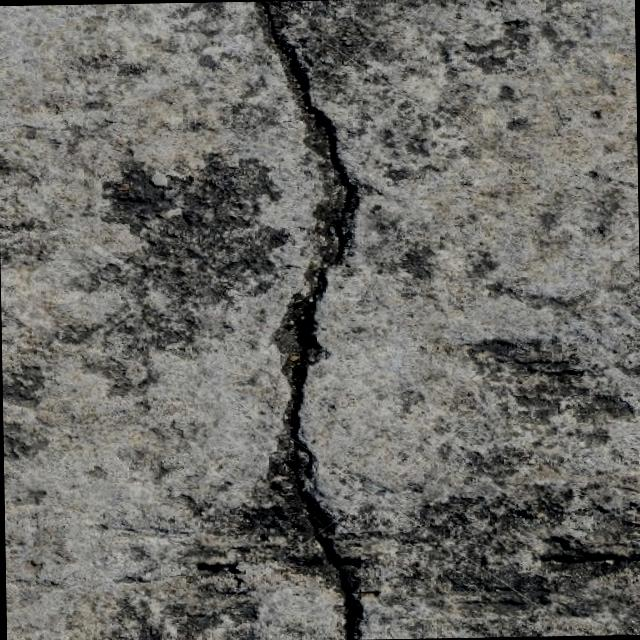crack: (251, 0, 367, 639)
spall: (422, 509, 640, 621)
